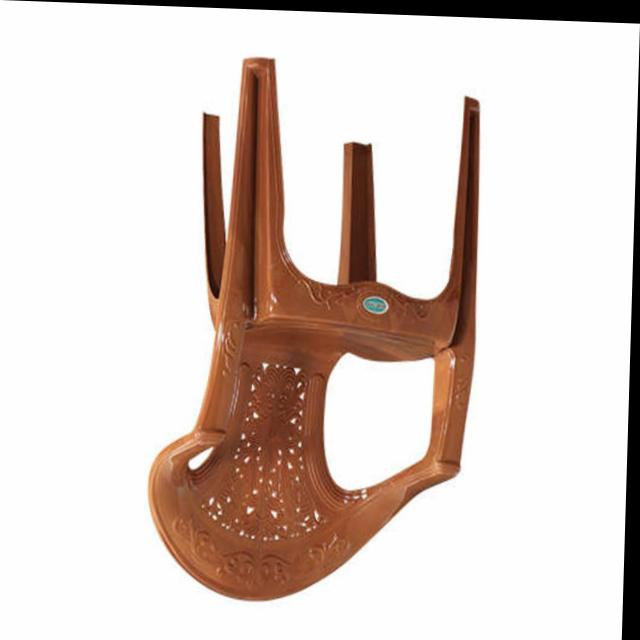Chair: (145, 51, 485, 602)
